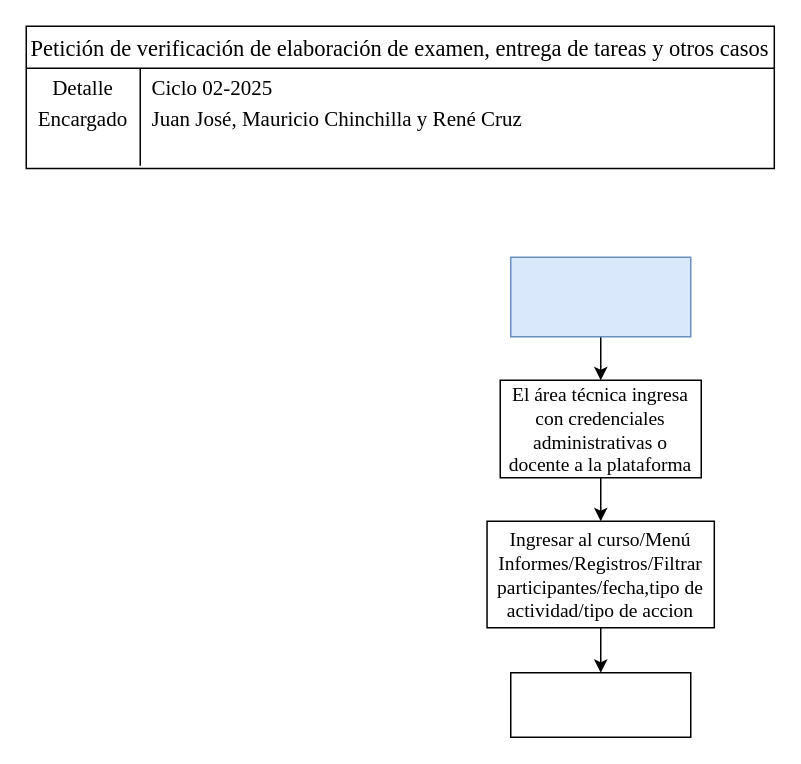
This 801x764 diagram has some shape labels left out. Here are the shapes that lost their labels. From the top down, the centre of each, then its label:
point (600, 296): Caso de verificación de entregas Moodle
point (600, 704): Obtener los registros para el estudiante
